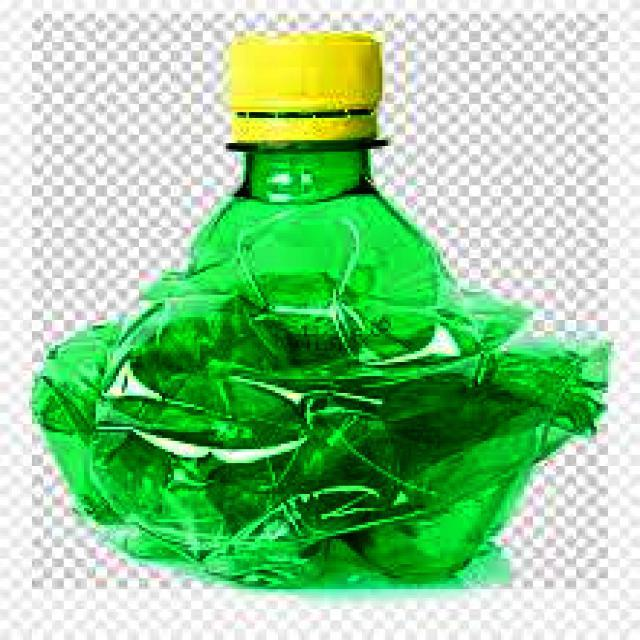BIODEGRADABLE: (32, 14, 608, 589)
